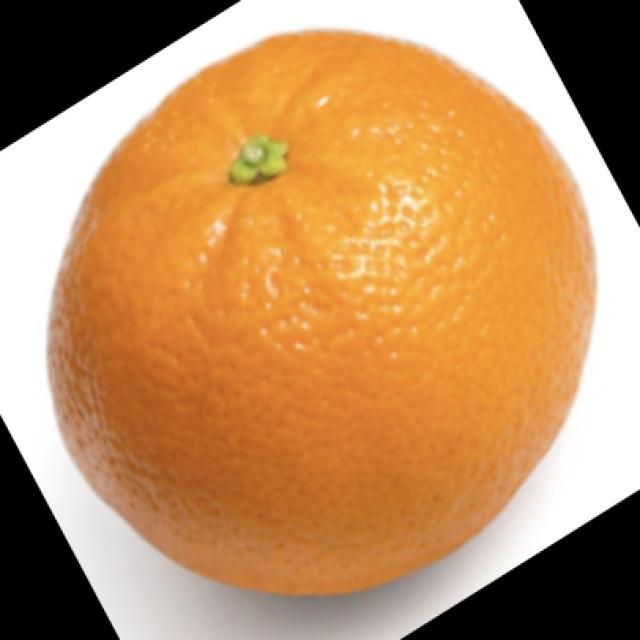matang: (43, 33, 596, 598)
